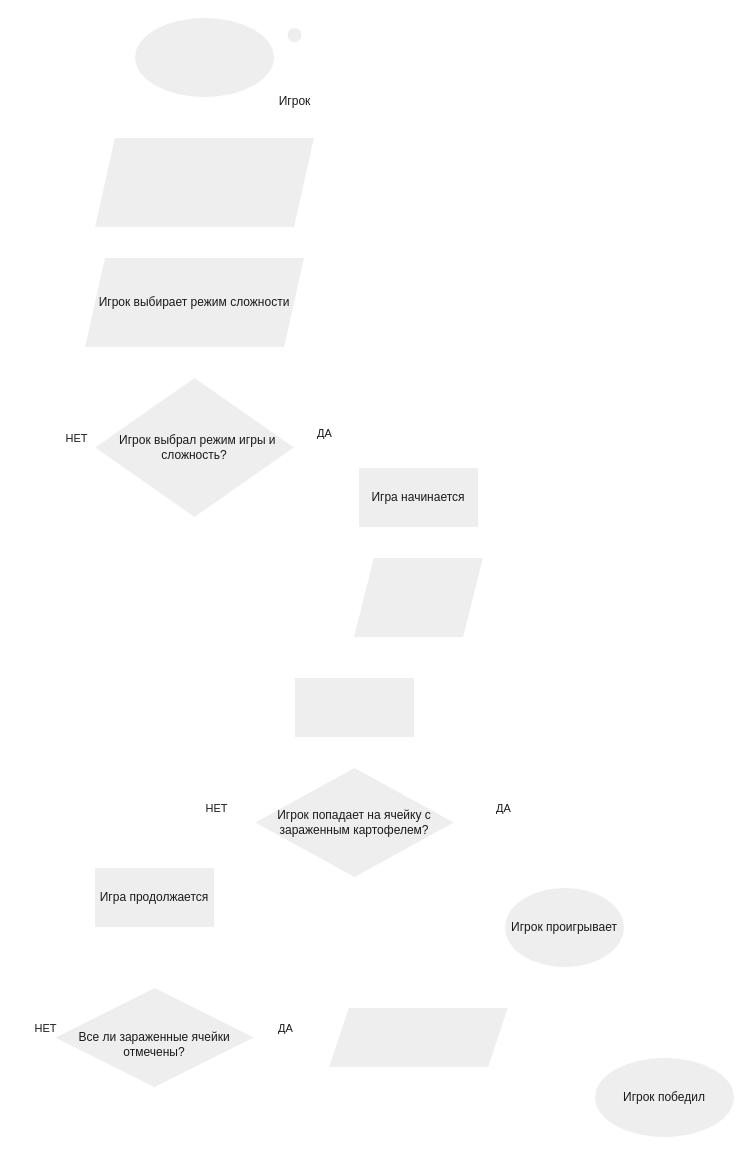
Some shapes in this 752 by 1155 pixel diagram are drawn without their labels. Each missing label, with the centre of its shape:
Все зараженные ячейки отмечены: point 418,1037
Игрок выбирает режим игры: point 204,182
Игрок выбирает ячейки: point 418,597
Игрок запускает игру: point 204,57
Игрок совершает ход: point 354,707
